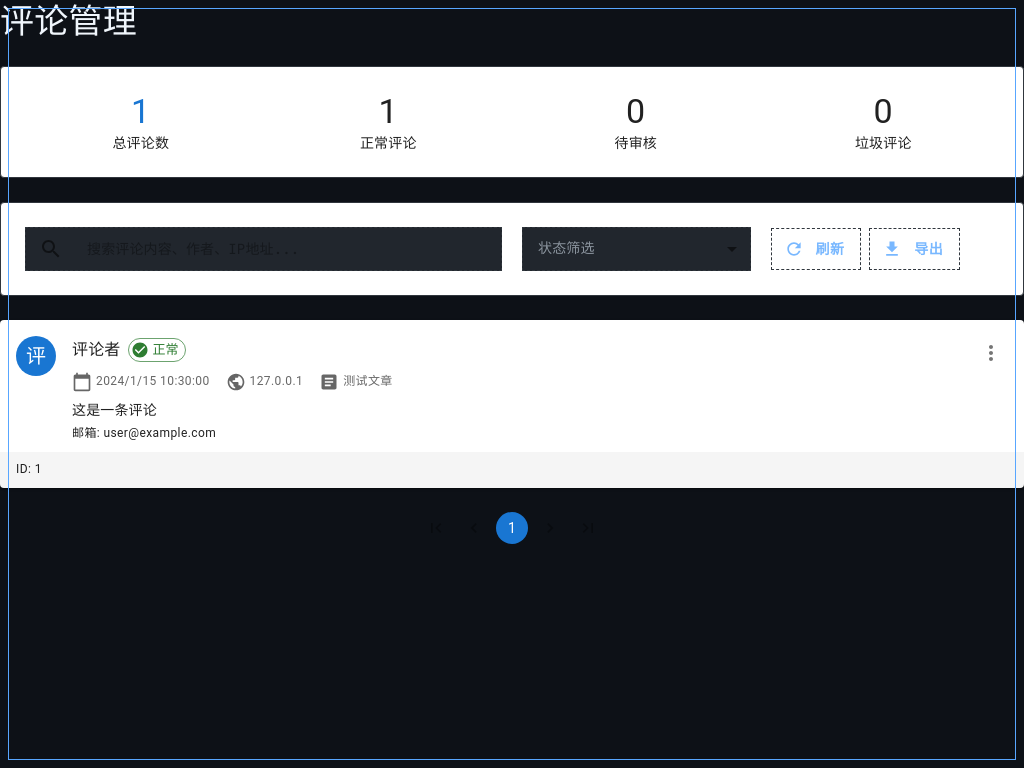
it: CommentsManager › 点“删除评论”先弹确认框，取消时不发删除请求
Expected: the heading "评论者" is shown, [72,336,120,364]
Click the 3rd button at (991, 353), box [974,336,1008,370]
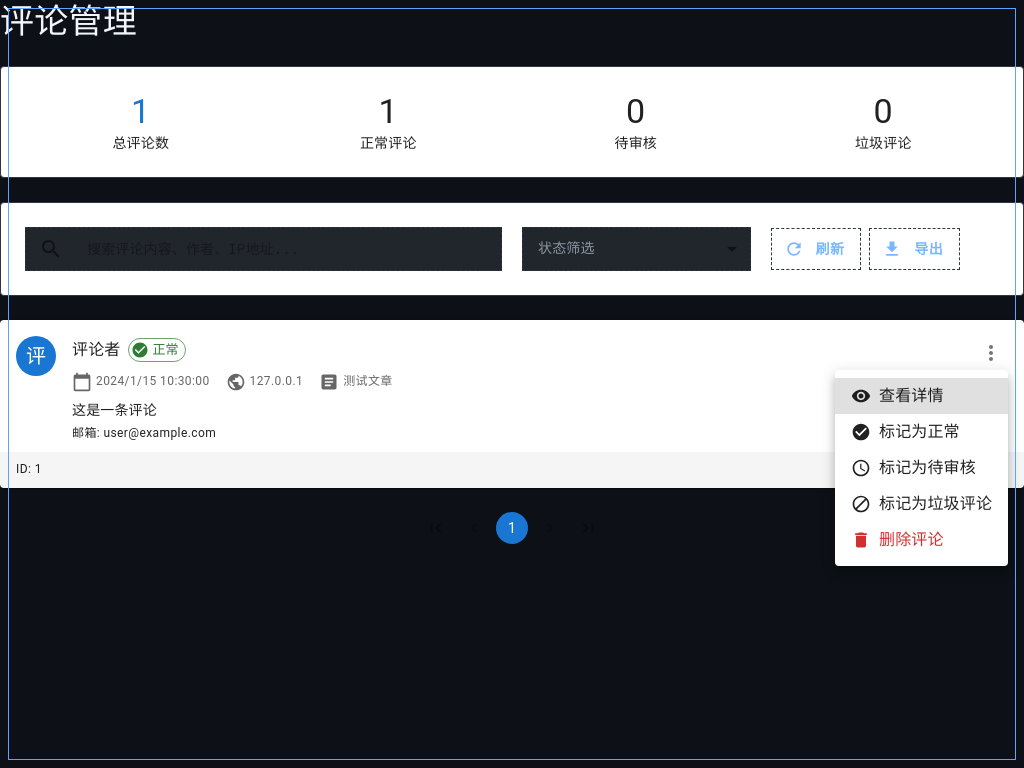
Click the menu item "删除评论" at (897, 540), box [851,530,944,550]
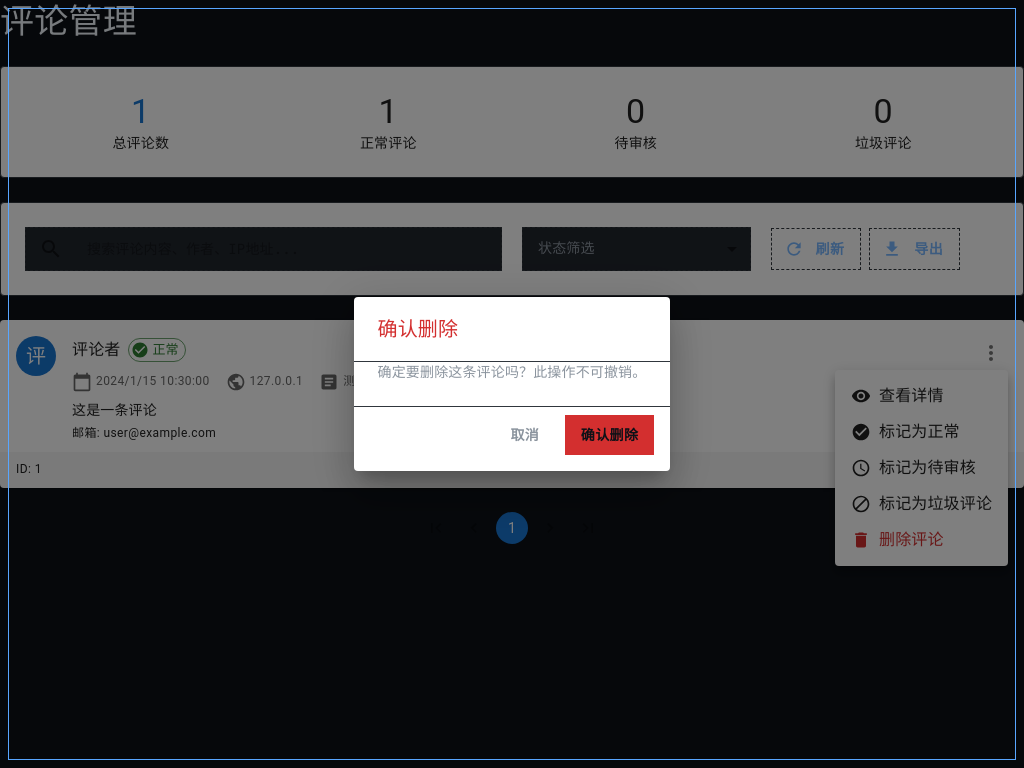
Result: the button "确认删除" is shown at [565,415,654,455]
Result: the text "确定要删除这条评论吗？此操作不可撤销。" is shown at [378,362,646,382]
Click the button "取消" at (525, 435), box [493,415,557,455]
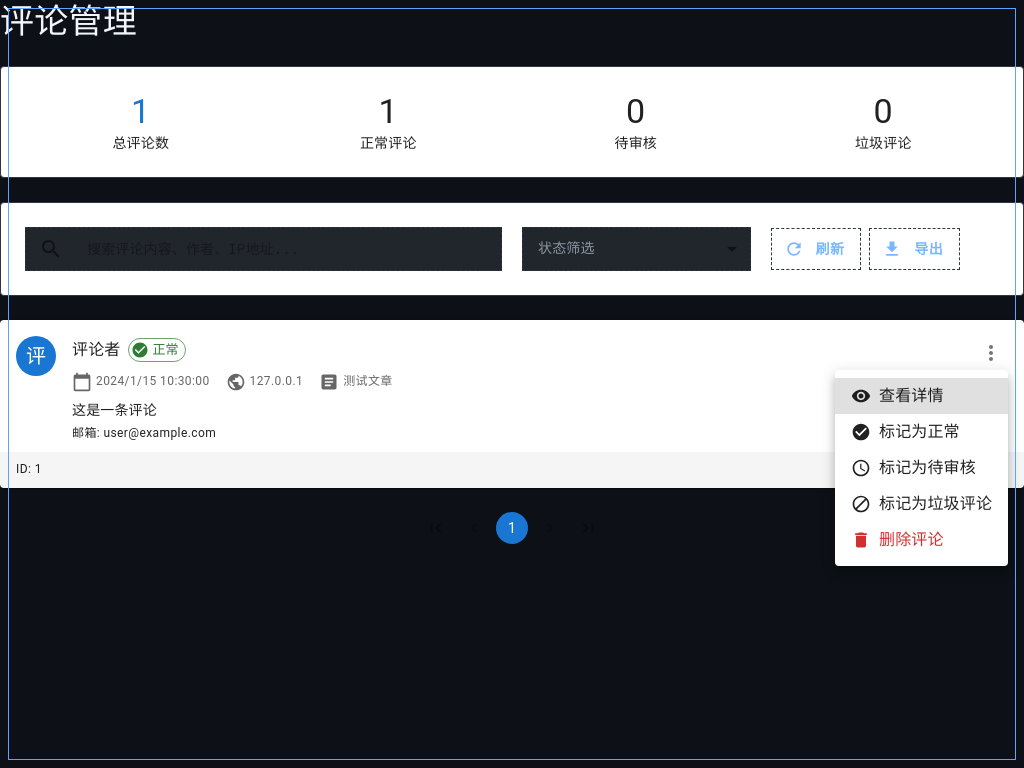
Result: the text "确认删除" is gone
